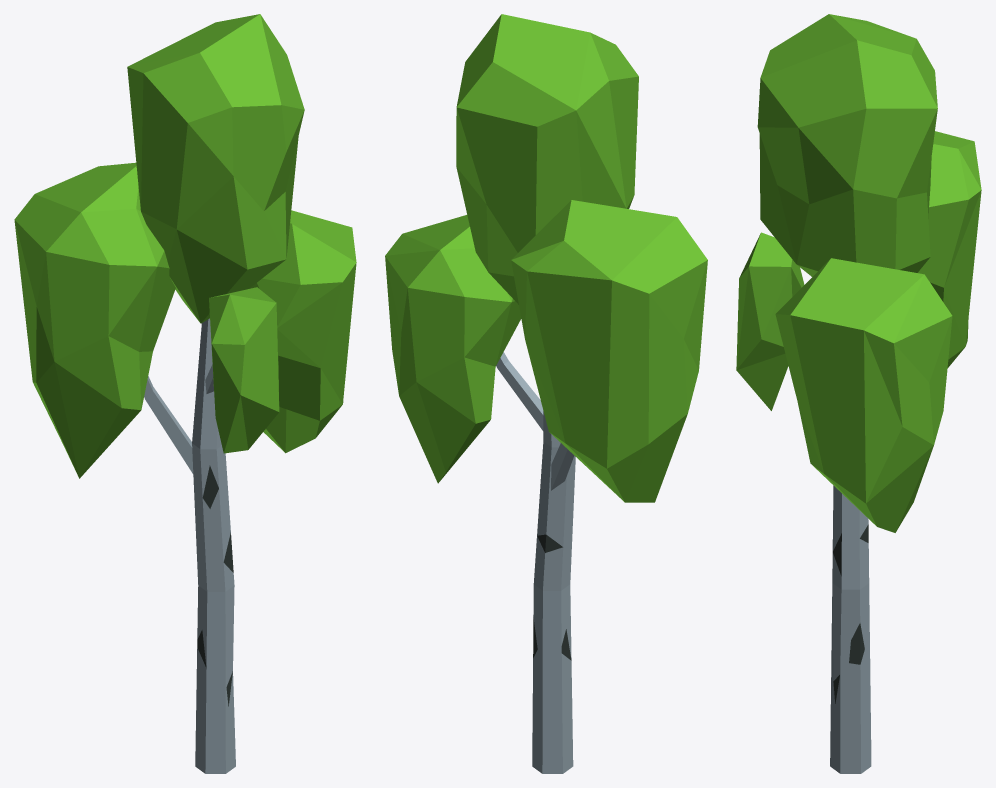
File: Birch_large.fbx
3 renders of one model, left to right at view 1: azimuth 30°, elevation 25°; view 2: azimuth 150°, elevation 25°; view 3: azimuth 270°, elevation 25°, orthographic.
Parts seen in each view (by area): view 1: birch_Medium; view 2: birch_Medium; view 3: birch_Medium.
Boxes of the visible parts, <box> form: birch_Medium: <box>14,14,356,773</box>; birch_Medium: <box>385,14,707,773</box>; birch_Medium: <box>736,14,981,773</box>.
Bounding box in the file's own units: 109 × 251 × 74.49.
